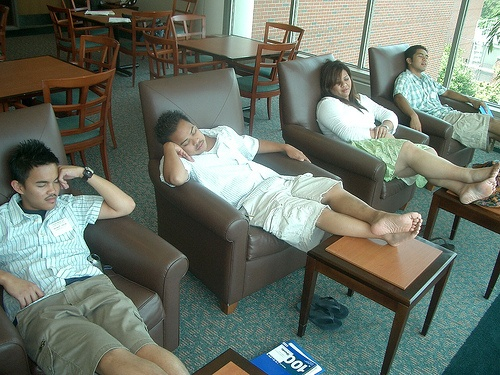head: (3, 140, 63, 213), (157, 111, 209, 157), (322, 57, 354, 100), (405, 44, 431, 74)
person: (1, 137, 203, 371), (157, 112, 429, 248), (314, 51, 489, 207), (396, 45, 500, 160)
